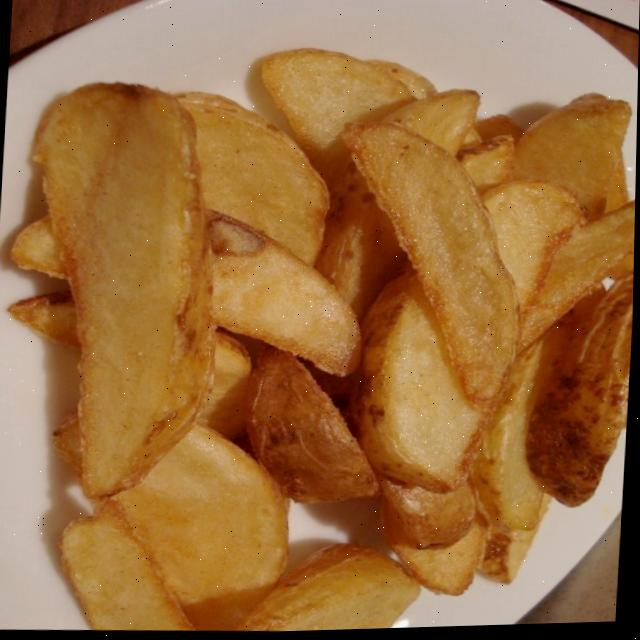炸货点心: (0, 12, 640, 640)
